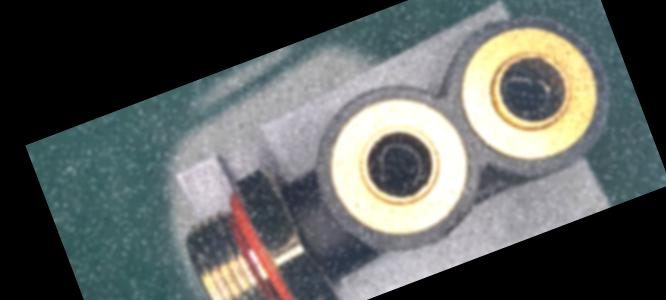bump: (476, 9, 529, 39), (433, 205, 475, 239)
off-centered: (360, 128, 442, 202), (491, 58, 566, 127)
white mark: (300, 207, 320, 228)
